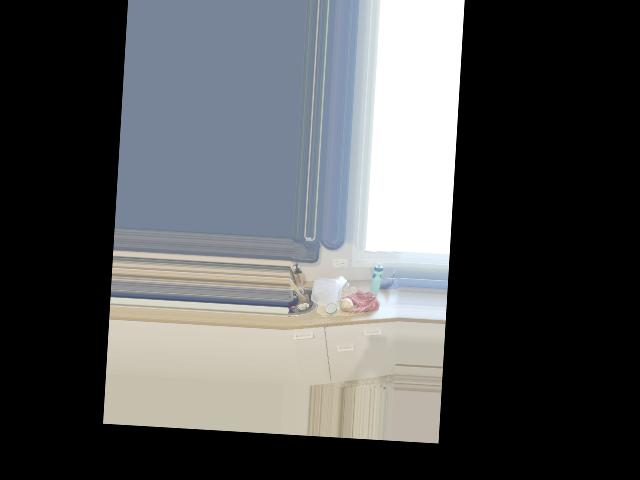onion: (340, 296, 357, 315)
